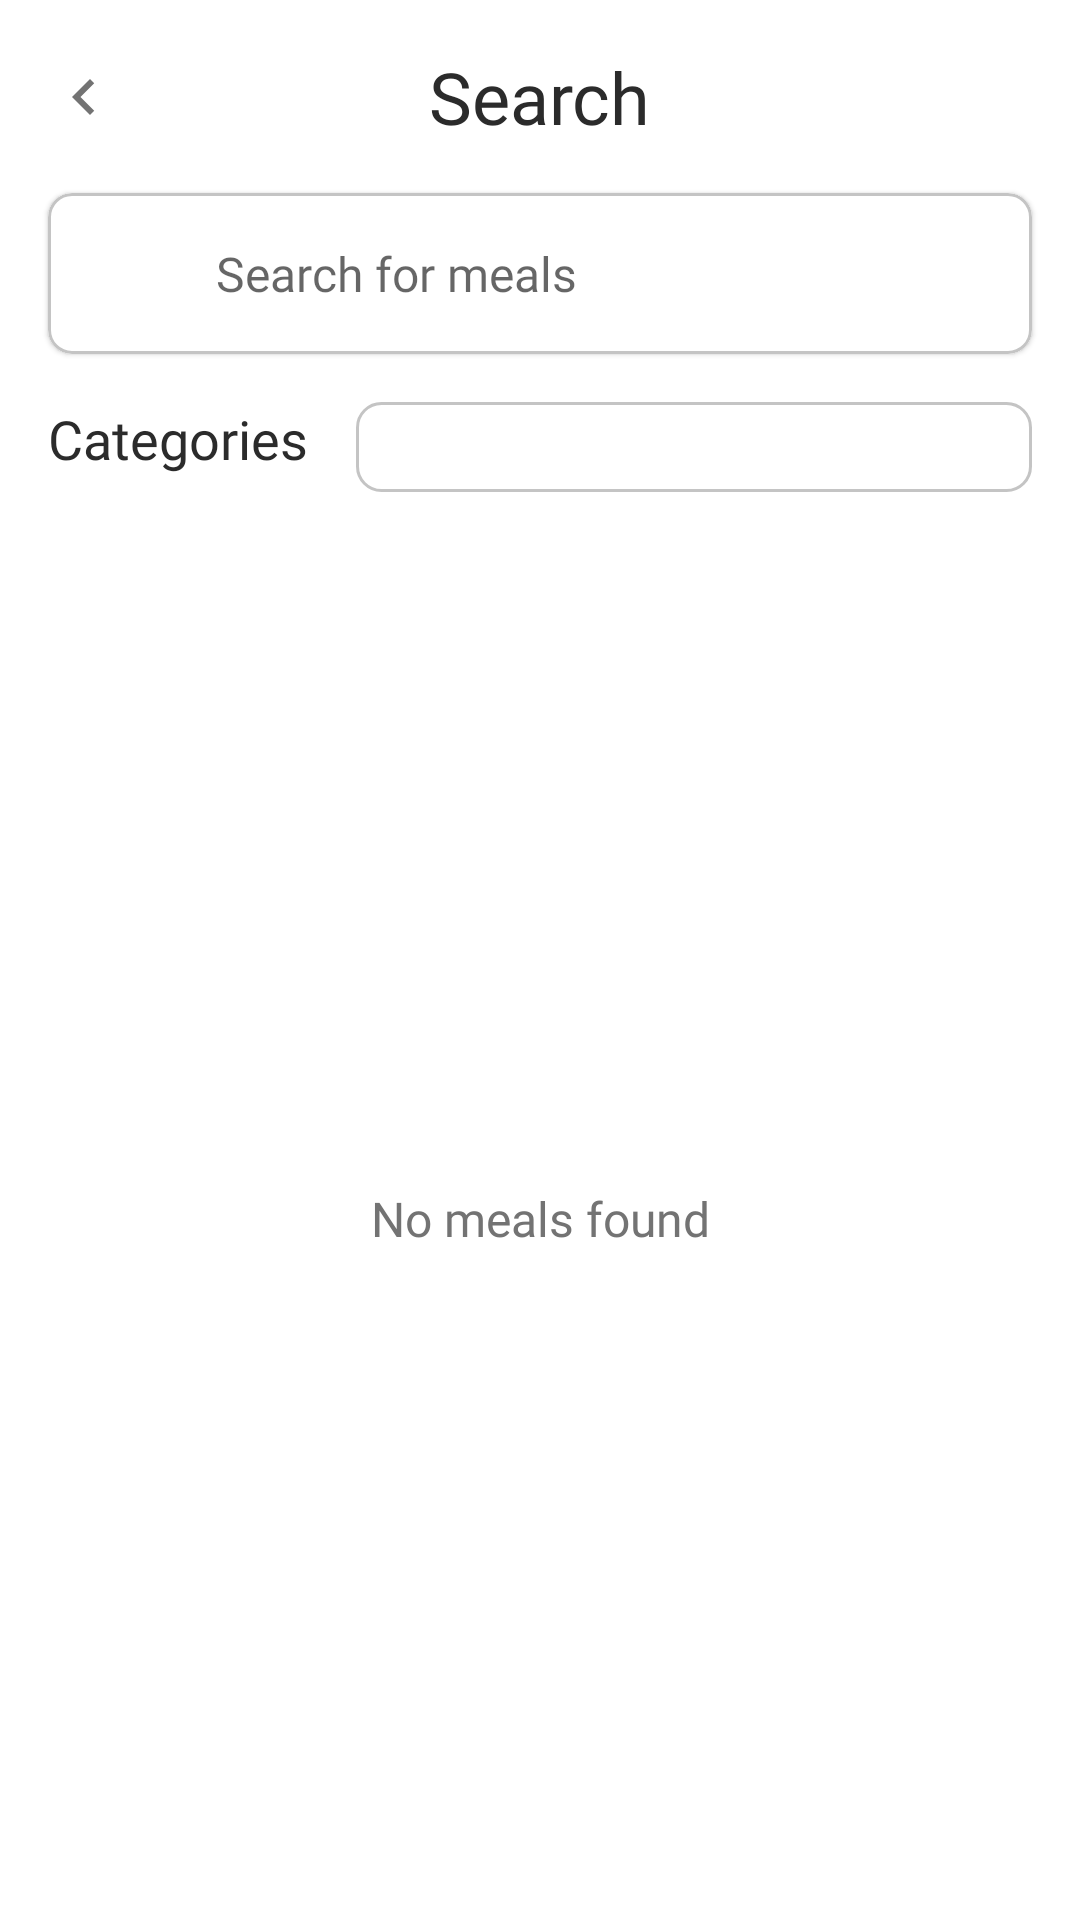

Icon click points for this 1080×1920 phone screenshot, format (x,y):
arrow left: (83,97)
